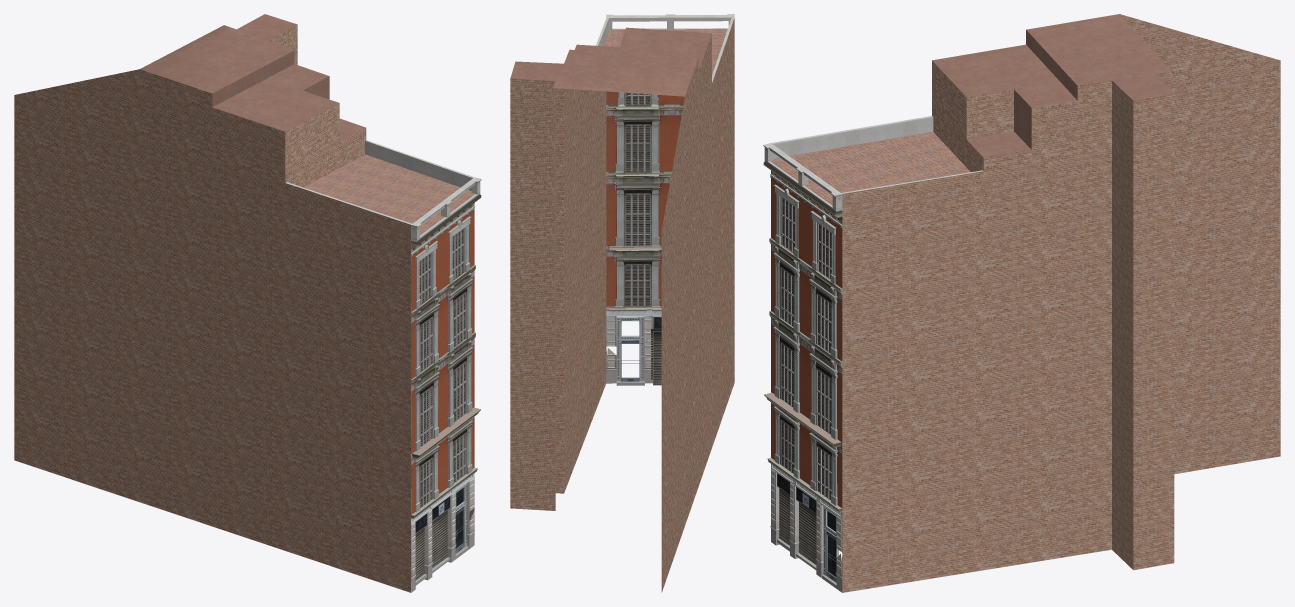
File: FBXAsco5165.fbx
The picture shows the model from 3 angles, left to right: view 1: azimuth 30°, elevation 25°; view 2: azimuth 150°, elevation 25°; view 3: azimuth 270°, elevation 25°; orthographic projection. The views are drawn at different scales.
Visible parts, largest first — view 1: polySurface372, polySurface341, polySurface360, polySurface362, polySurface368, polySurface370, polySurface351, polySurface361, polySurface345, polySurface369, polySurface366, polySurface364 (+3 smaller); view 2: polySurface341, polySurface372, polySurface351, polySurface357, polySurface349; view 3: polySurface341, polySurface372, polySurface360, polySurface362, polySurface368, polySurface370, polySurface361, polySurface351, polySurface345, polySurface369, polySurface366, polySurface367 (+5 smaller).
Boxes of the visible parts, x1=… form: polySurface372: x1=14, y1=69, x2=410, y2=592; polySurface341: x1=140, y1=14, x2=481, y2=592; polySurface360: x1=448, y1=340, x2=473, y2=426; polySurface362: x1=415, y1=365, x2=439, y2=451; polySurface368: x1=448, y1=272, x2=472, y2=352; polySurface370: x1=415, y1=297, x2=439, y2=376; polySurface351: x1=455, y1=483, x2=467, y2=553; polySurface361: x1=453, y1=357, x2=466, y2=421; polySurface345: x1=432, y1=510, x2=447, y2=567; polySurface369: x1=453, y1=288, x2=466, y2=347; polySurface366: x1=447, y1=419, x2=473, y2=487; polySurface364: x1=415, y1=444, x2=439, y2=511; polySurface341: x1=510, y1=14, x2=734, y2=510; polySurface372: x1=661, y1=18, x2=734, y2=592; polySurface351: x1=616, y1=317, x2=644, y2=381; polySurface357: x1=624, y1=92, x2=651, y2=105; polySurface349: x1=606, y1=316, x2=616, y2=346; polySurface341: x1=763, y1=14, x2=1174, y2=592; polySurface372: x1=781, y1=14, x2=1280, y2=474; polySurface360: x1=809, y1=345, x2=837, y2=439; polySurface362: x1=773, y1=320, x2=799, y2=412; polySurface368: x1=809, y1=272, x2=837, y2=359; polySurface370: x1=773, y1=246, x2=799, y2=332; polySurface361: x1=816, y1=364, x2=831, y2=434; polySurface351: x1=823, y1=506, x2=838, y2=582; polySurface345: x1=798, y1=502, x2=816, y2=564; polySurface369: x1=816, y1=289, x2=831, y2=353; polySurface366: x1=809, y1=431, x2=837, y2=505; polySurface367: x1=816, y1=442, x2=831, y2=499.
Bounding box in the file's own units: 1370 × 2169 × 2163.
